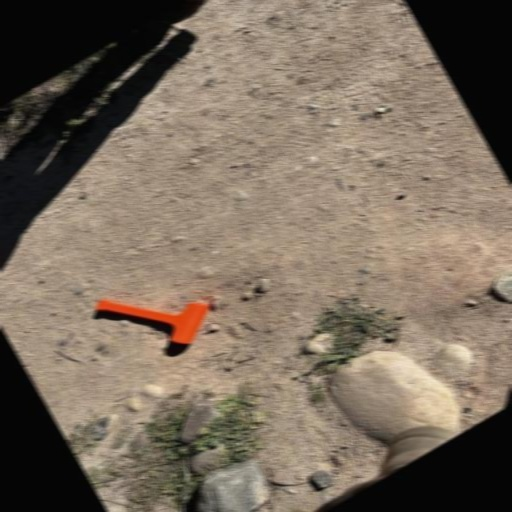mallet: (94, 254, 220, 375)
